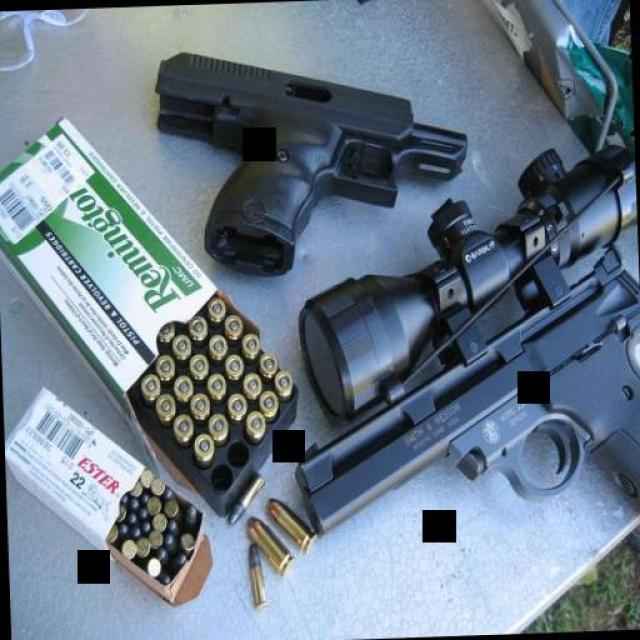gun: (281, 147, 640, 562), (144, 30, 461, 271)
